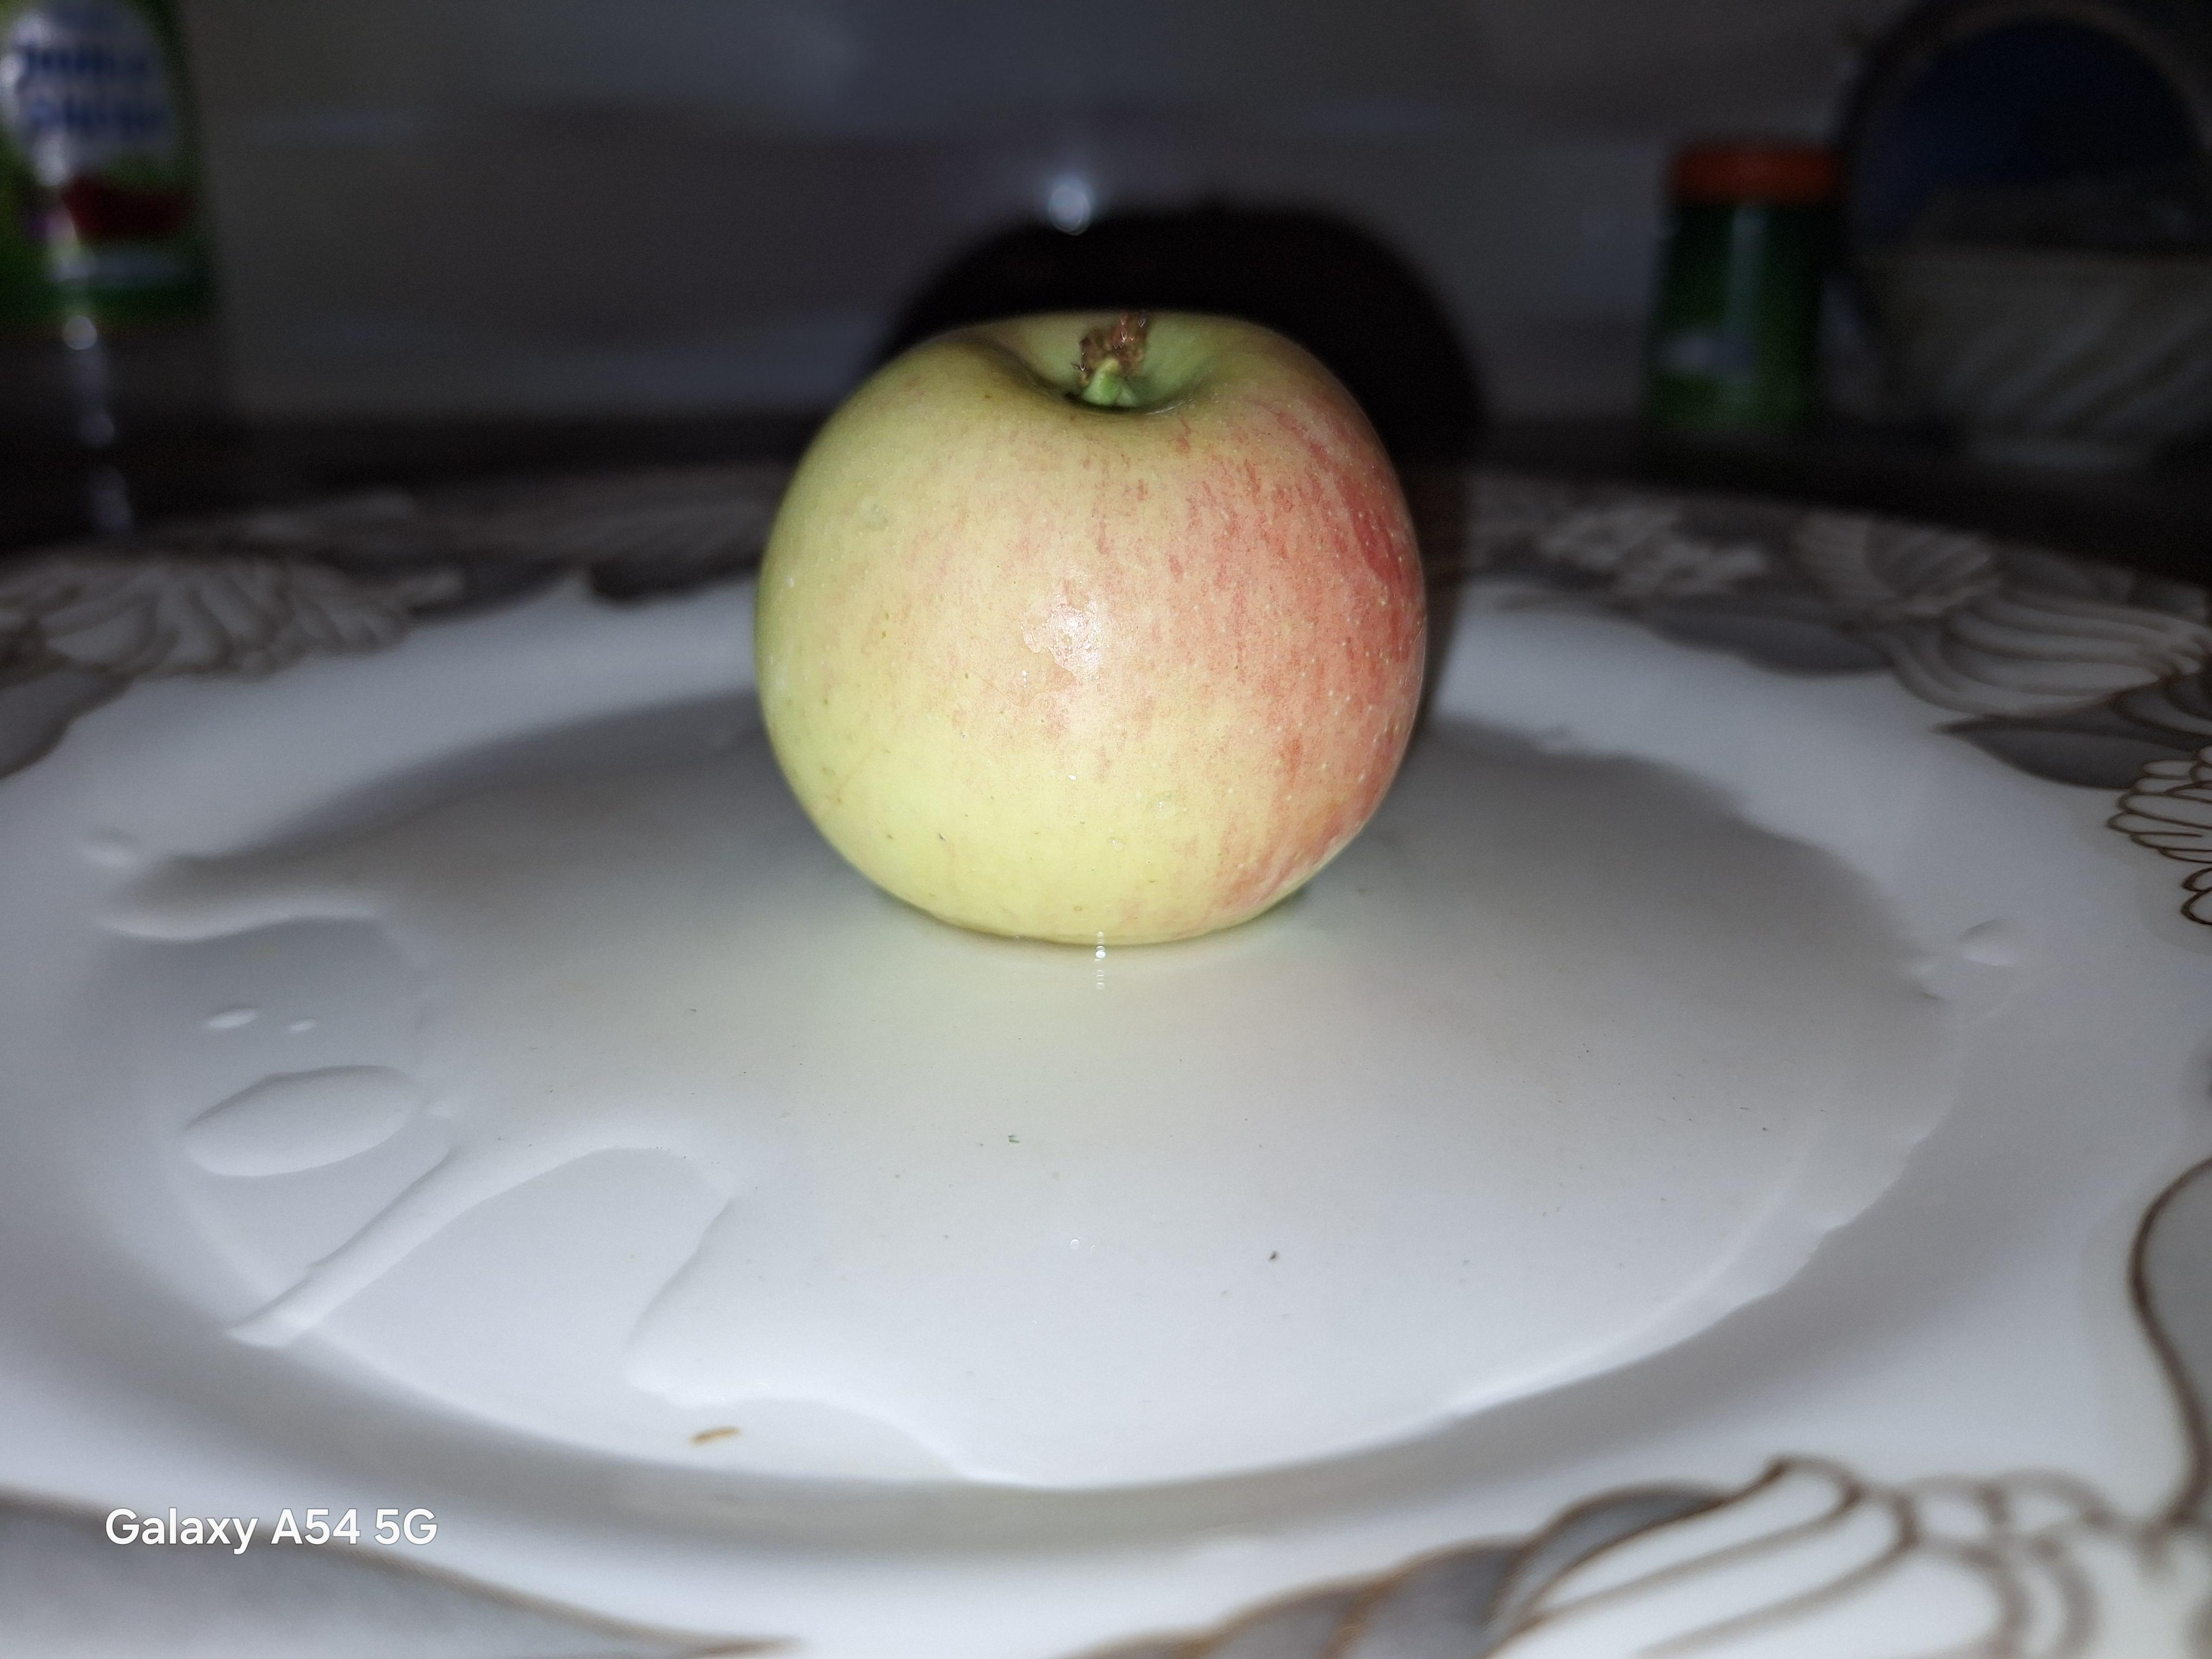non-mango: (749, 274, 1468, 950)
